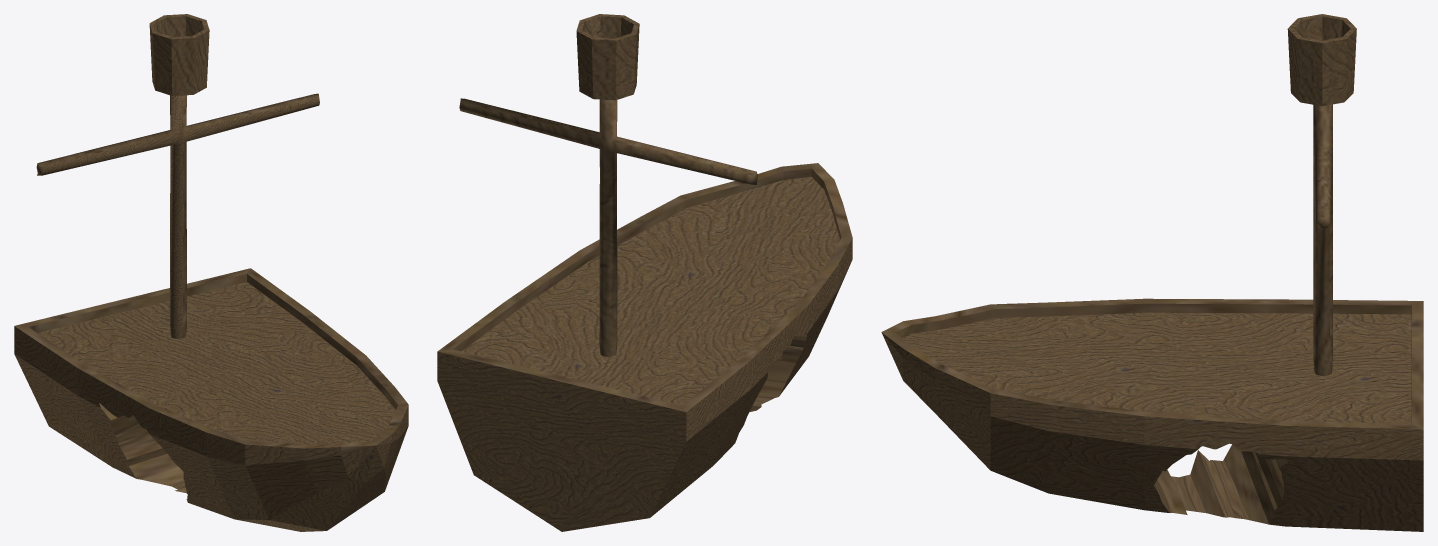
Rendered from ship.glb.
3 views of the same model, side by side, from view 1: azimuth 30°, elevation 25°; view 2: azimuth 150°, elevation 25°; view 3: azimuth 270°, elevation 25° (orthographic). The views are drawn at different scales.
Parts seen in each view (by area): view 1: Circle; view 2: Circle; view 3: Circle.
Part boxes in pixels (box(x1,y1,x2,y2)): Circle: box(14, 14, 408, 531); Circle: box(437, 14, 852, 531); Circle: box(881, 14, 1423, 531).
Size of the model in its own units: 20.25 by 30.61 by 30.31.
1 material, 1 textured.
